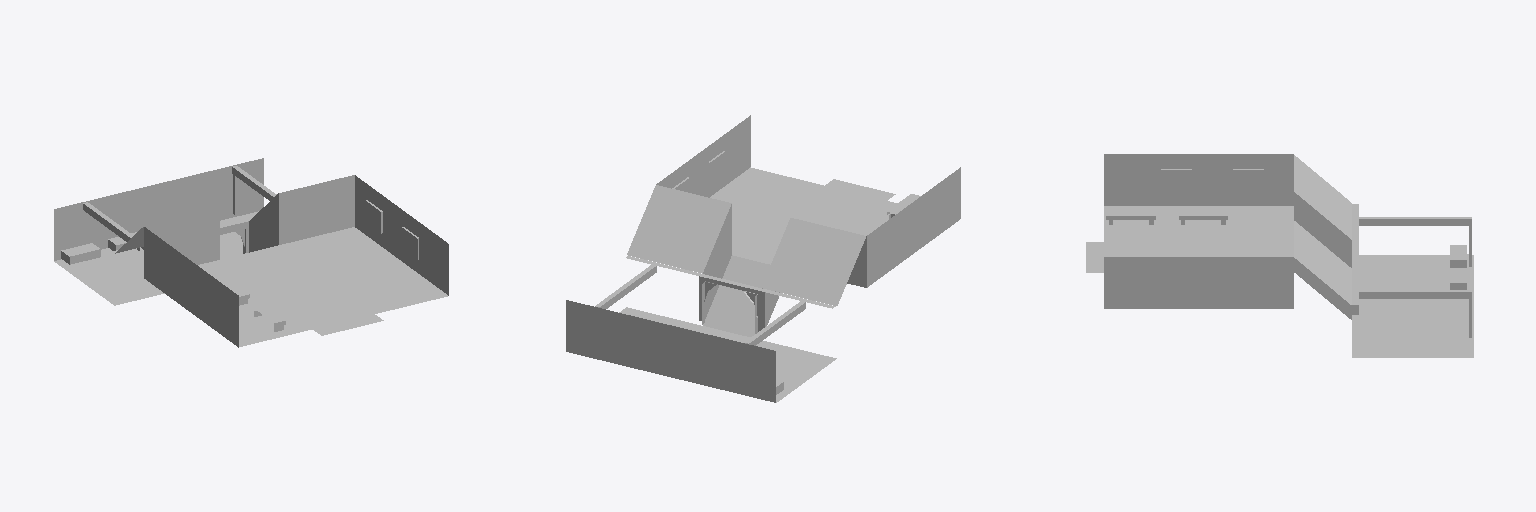
Rendered from HOTEL-B1-4.obj.
The picture shows the model from 3 angles: view 1: azimuth 30°, elevation 25°; view 2: azimuth 150°, elevation 25°; view 3: azimuth 270°, elevation 25°; orthographic projection.
Visible parts, largest first — view 1: Indoor_All_v2_06; view 2: Indoor_All_v2_06; view 3: Indoor_All_v2_06.
Boxes of the visible parts, box(x1,y1,x2,y2) form: Indoor_All_v2_06: box(54, 158, 448, 347); Indoor_All_v2_06: box(566, 115, 960, 402); Indoor_All_v2_06: box(1086, 154, 1473, 357).
Bounding box in the file's own units: 216 × 99 × 344.